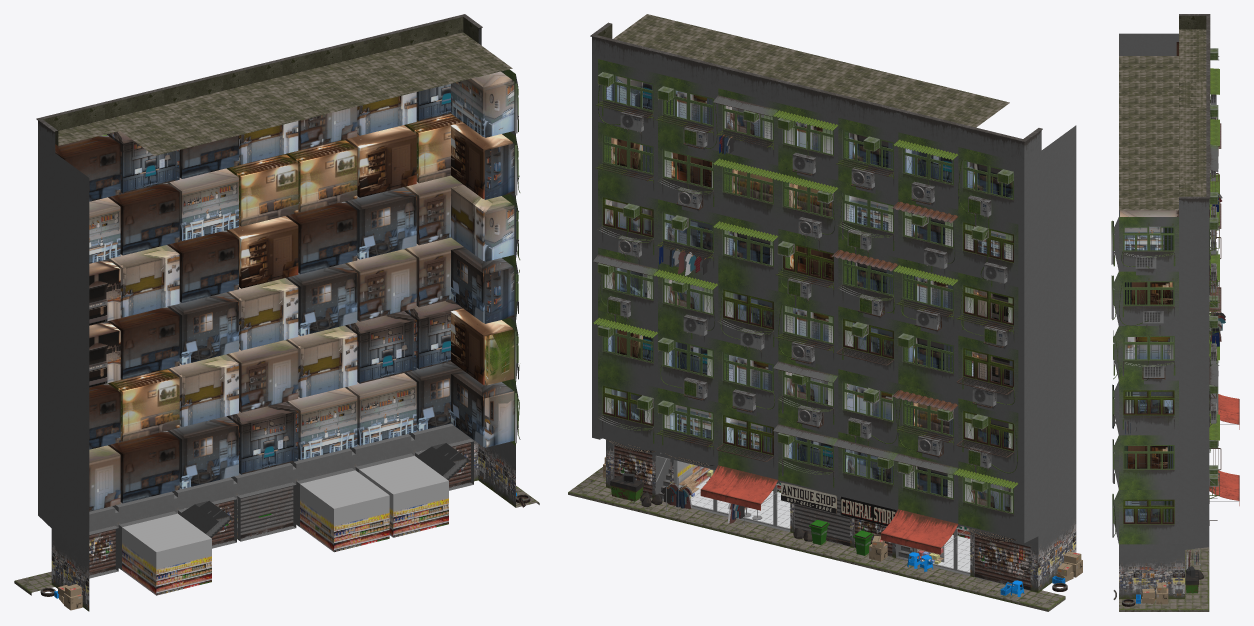
Rendered from hongKongHalf.fbx.
The picture shows the model from 3 angles, left to right: view 1: azimuth 30°, elevation 25°; view 2: azimuth 150°, elevation 25°; view 3: azimuth 270°, elevation 25°; orthographic projection. The views are drawn at different scales.
Visible parts, largest first — view 1: Cube (×2); view 2: Cube (×2); view 3: Cube (×2).
Part boxes in pixels (box(x1,y1,x2,y2)): Cube (×2): box(14, 14, 539, 611); Cube (×2): box(568, 14, 1082, 611); Cube (×2): box(1111, 14, 1239, 611).
Size of the model in its own units: 800 by 740 by 213.
